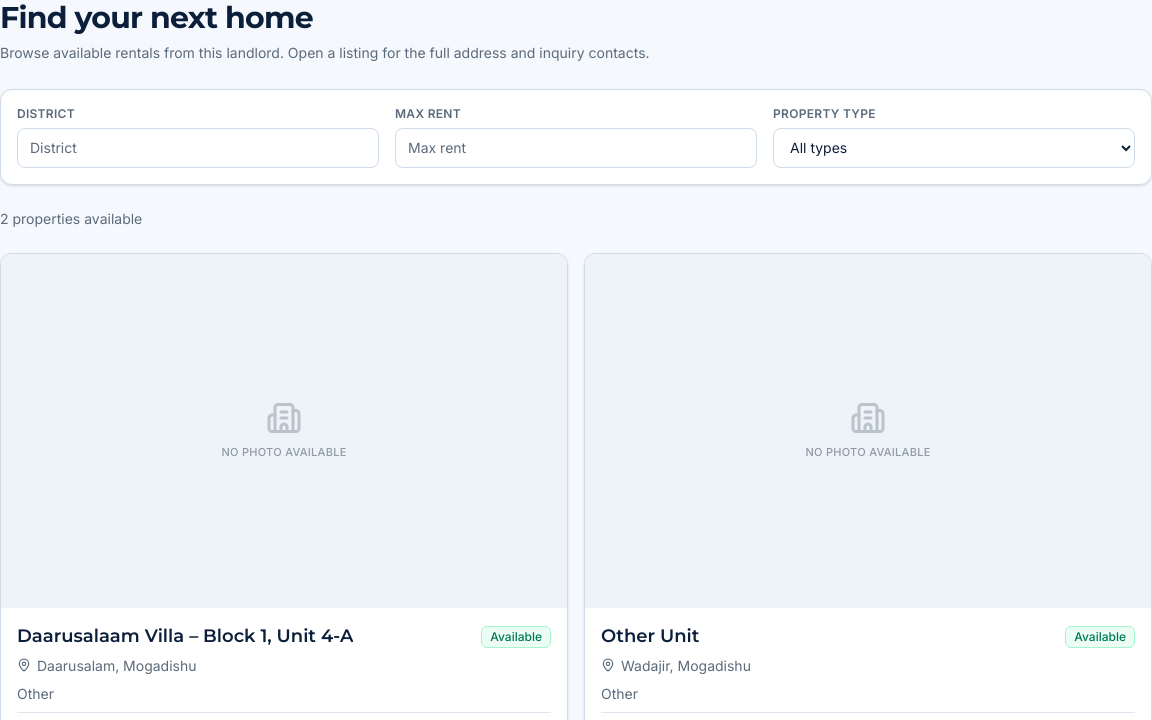
Test: BrowseListingsPage tenant-scoped RPC (RP-1.3.32 F1) › applies client district filter without changing RPC
The image size is (1152, 720).
Expected: the heading "Daarusalaam Villa – Block 1, Unit 4-A" is shown, top-left (17, 624), bottom-right (353, 648)
Step 1. Type "Daarusalam" into the field with placeholder "District" → coordinates (198, 148), box top-left (17, 128), bottom-right (379, 168)
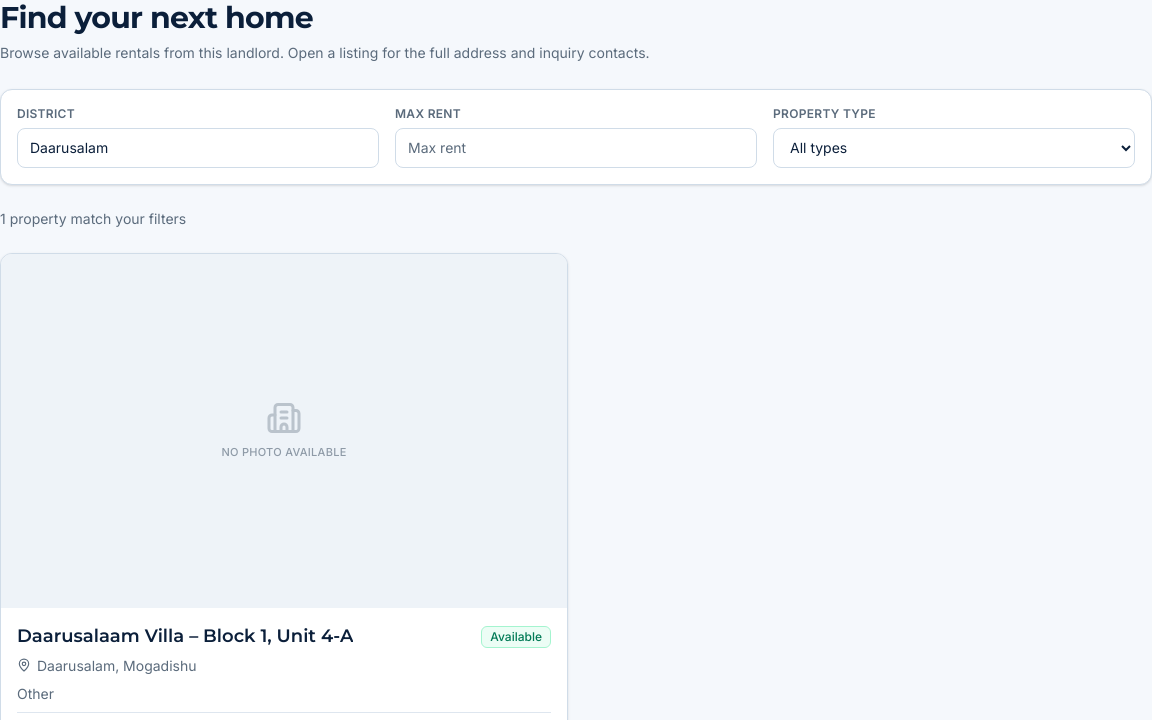
Expected: the heading "Daarusalaam Villa – Block 1, Unit 4-A" is shown, top-left (17, 624), bottom-right (353, 648)
Expected: the link "Other Unit" is gone
